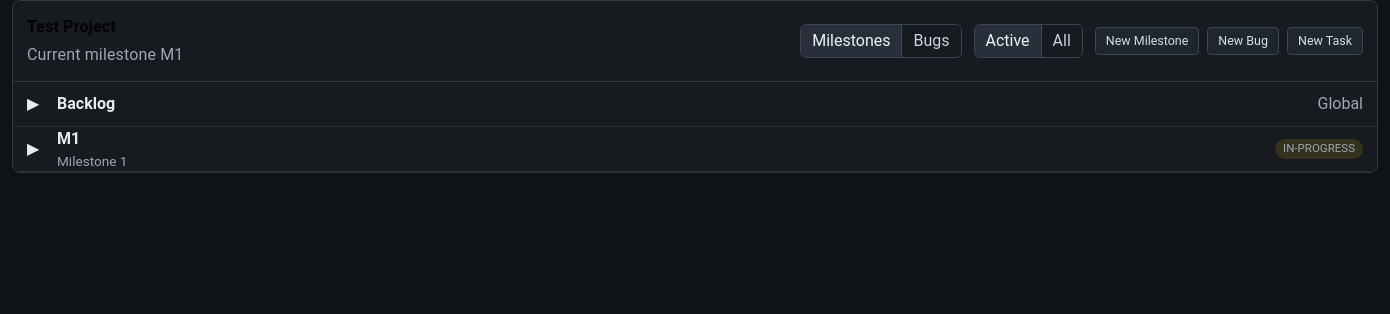
Test case: TaskflowView Refactored Filters › applies left-side highlight to active tasks but not non-active tasks
This screenshot has width=1390, height=314.
Expected: the text "Milestone 1" is shown, x1=57 y1=153 x2=128 y2=169
Click the button "▶ M1 Milestone 1 in-progress" at {"x": 92, "y": 161}, box x1=13 y1=127 x2=1377 y2=171
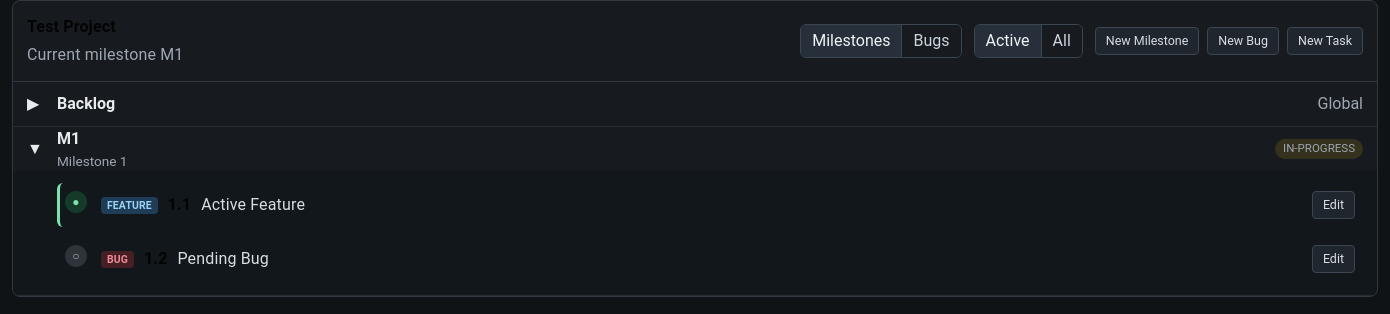
Expected: the text "Active Feature" is shown, x1=201 y1=193 x2=305 y2=217
